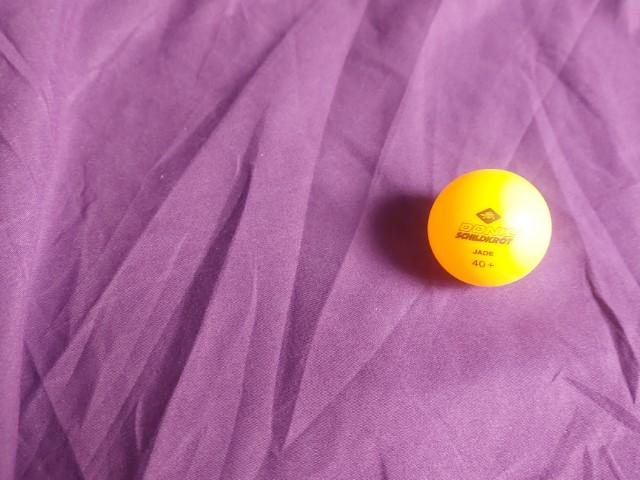oball: (419, 166, 555, 293)
